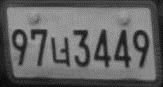3: (72, 29, 91, 67)
4: (93, 28, 112, 68), (113, 28, 132, 68)
7: (29, 28, 48, 66)
9: (132, 29, 149, 68), (10, 28, 27, 65)
너: (50, 36, 70, 66)
